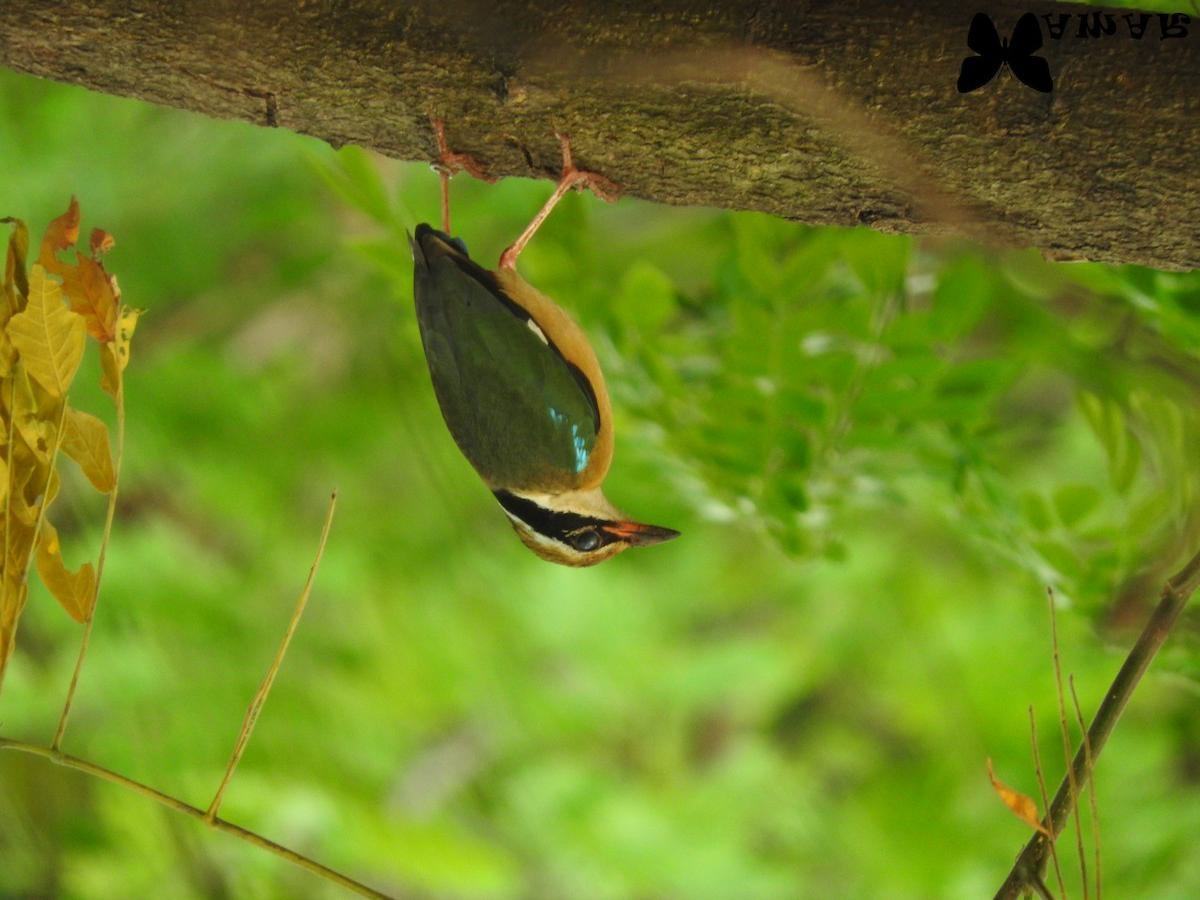pitta: (387, 125, 721, 606)
